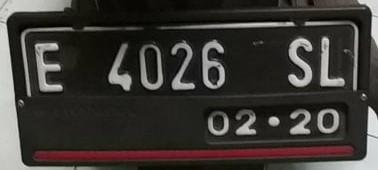clone-license-plate: (19, 21, 359, 144)
